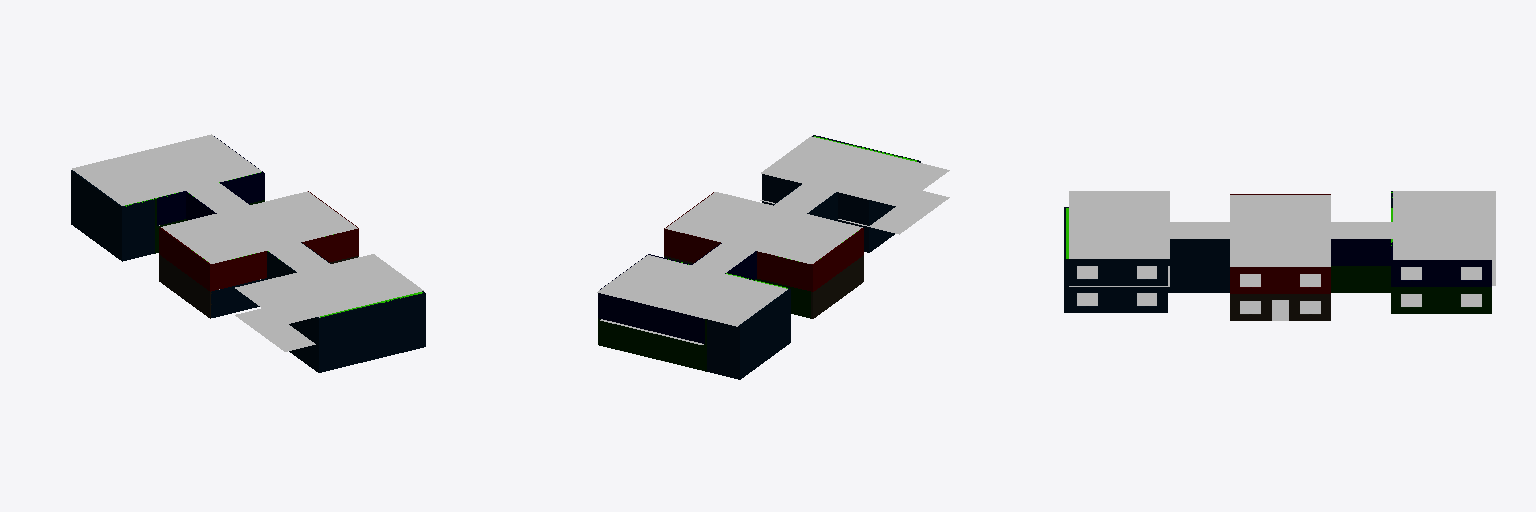
Rendered from boosehouse.obj.
The picture shows the model from 3 angles: view 1: azimuth 30°, elevation 25°; view 2: azimuth 150°, elevation 25°; view 3: azimuth 270°, elevation 25°; orthographic projection.
Visible parts, largest first — view 1: Cube.034; view 2: Cube.034; view 3: Cube.034.
Boxes of the visible parts, x1,y1,x2,y2 form: Cube.034: [71, 134, 425, 372]; Cube.034: [597, 135, 949, 379]; Cube.034: [1064, 191, 1495, 320].
Size of the model in its own units: 60.68 by 20.07 by 145.